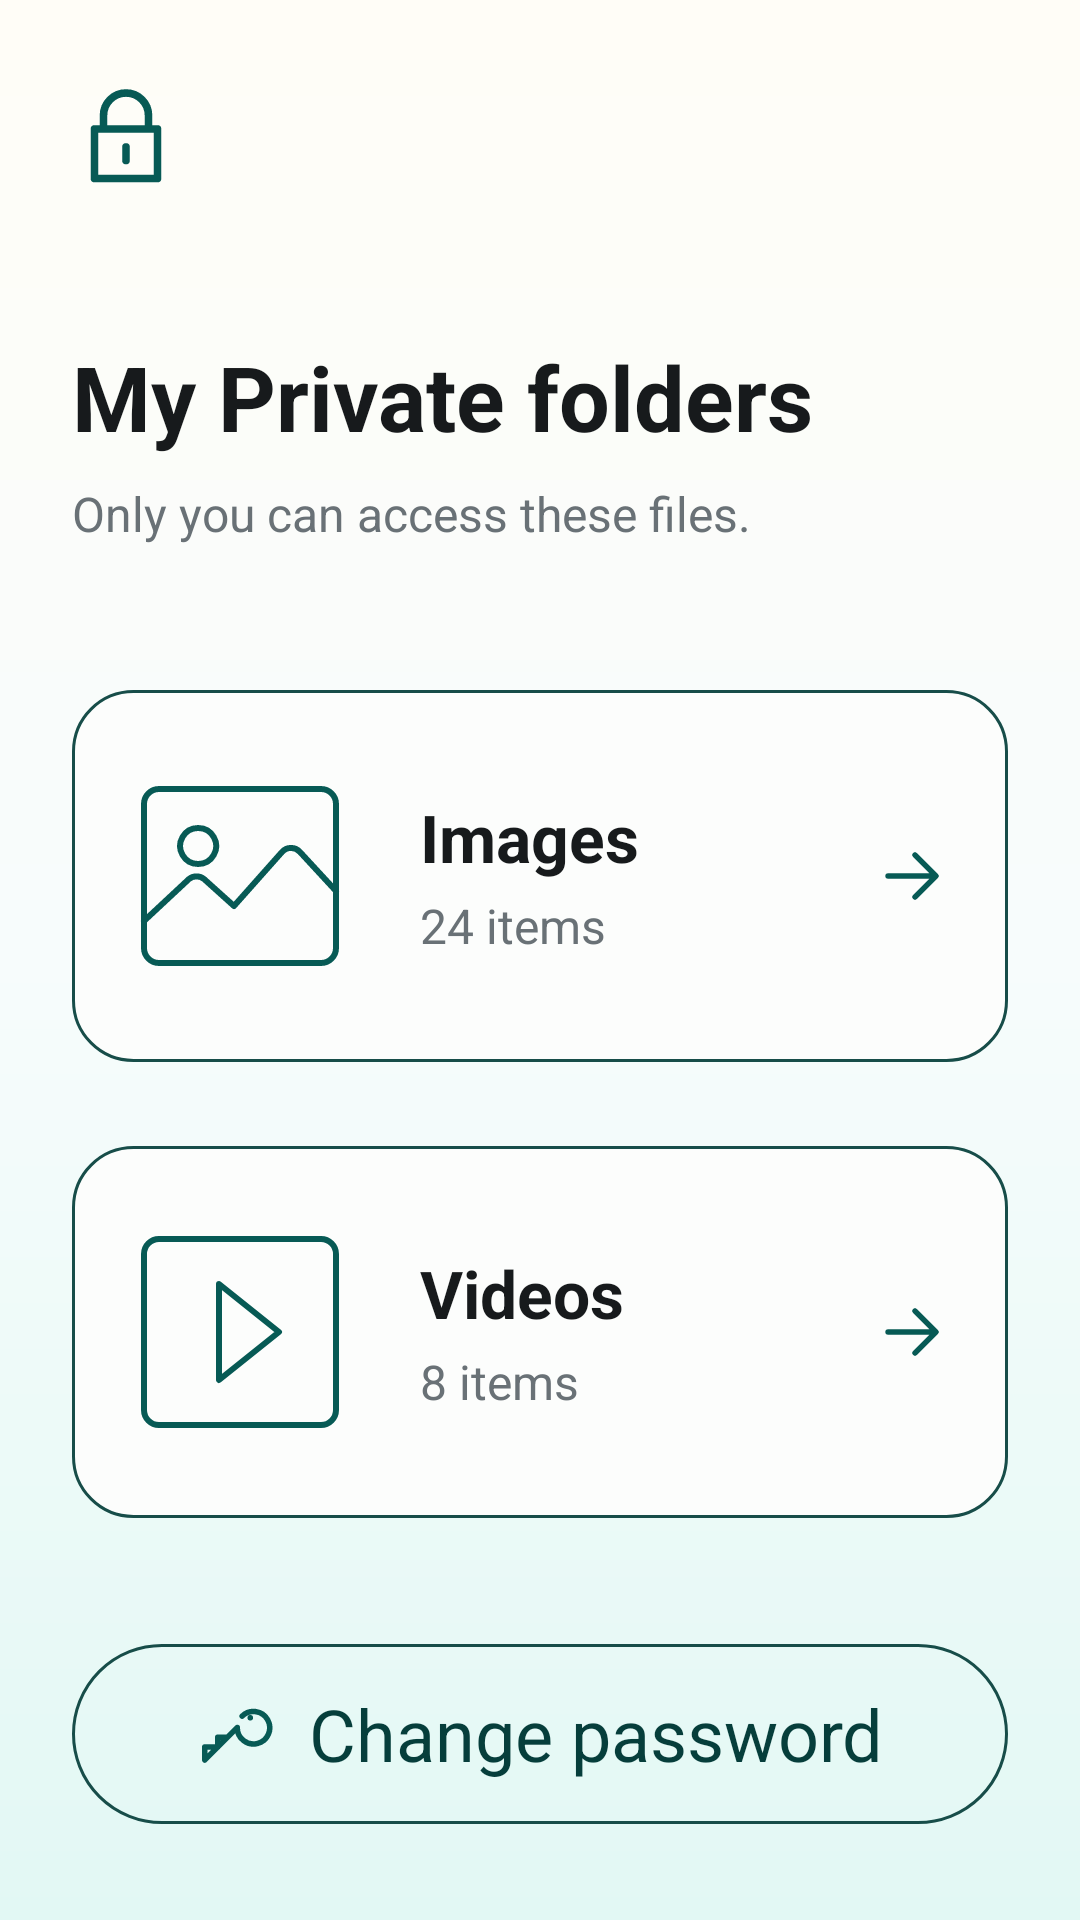

Icons on this 1080x1920 Android screen, each with the point to tap as point (x, y):
arrow right: point (912, 876), point (912, 1332)
key: point (237, 1735)
play: point (240, 1332)
Private space lock: point (126, 136)
